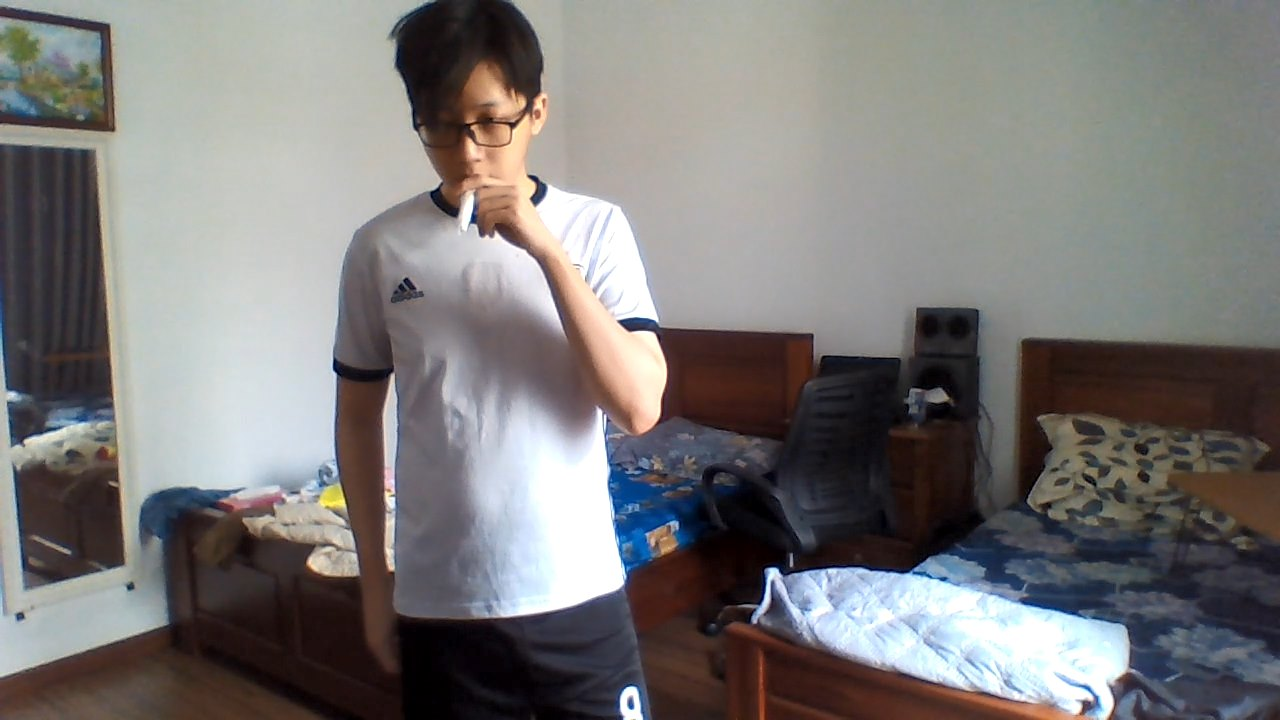cigarette: (452, 186, 481, 230)
person: (304, 0, 677, 720)
